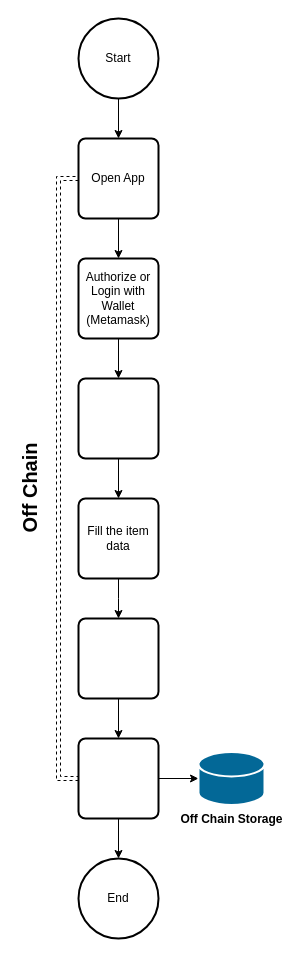
Image size: 300x956. Some labels were removed from this diagram. Here are the shapes that lost their labels. From the top down, the centre of each, then its label:
At point (118, 418): "Create NFT Item".
At point (118, 658): "Choose a Chain (ETH, Matic, Near)".
At point (118, 778): "Upload the item".
